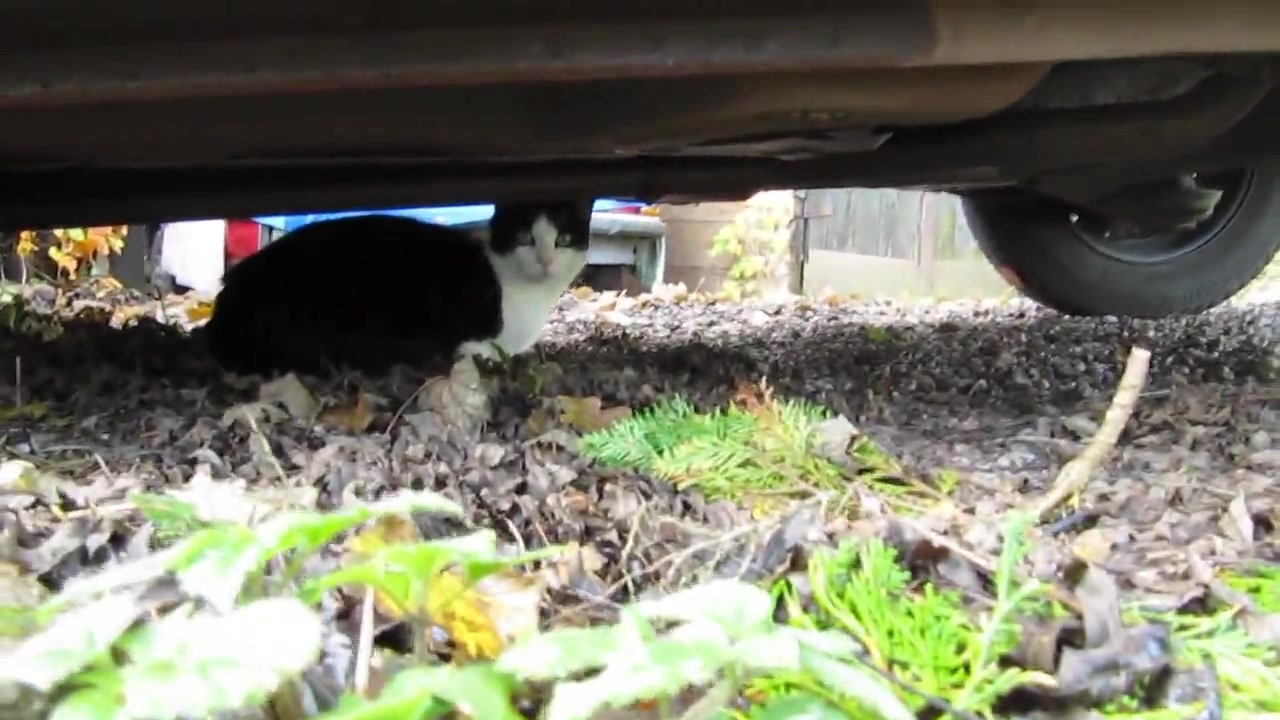cat: (199, 196, 601, 386)
